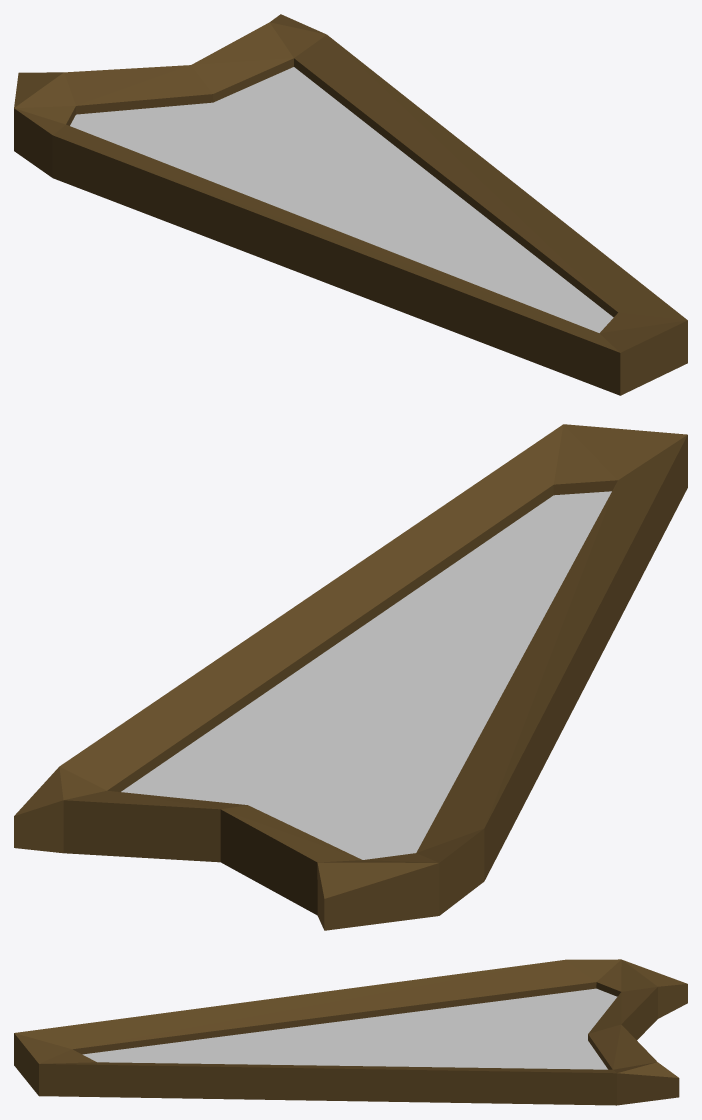
File: ITMI_HARP_01.OBJ
The picture shows the model from 3 angles, top to bottom: view 1: azimuth 30°, elevation 25°; view 2: azimuth 150°, elevation 25°; view 3: azimuth 270°, elevation 25°; orthographic projection. The views are drawn at different scales.
Parts seen in each view (by area): view 1: ITMI_HARP_01; view 2: ITMI_HARP_01; view 3: ITMI_HARP_01.
Boxes of the visible parts, x1,y1,x2,y2 form: ITMI_HARP_01: (14,14,687,395); ITMI_HARP_01: (14,424,687,930); ITMI_HARP_01: (14,959,687,1105).
Bounding box in the file's own units: 0.3641 × 0.0496 × 0.9108.
